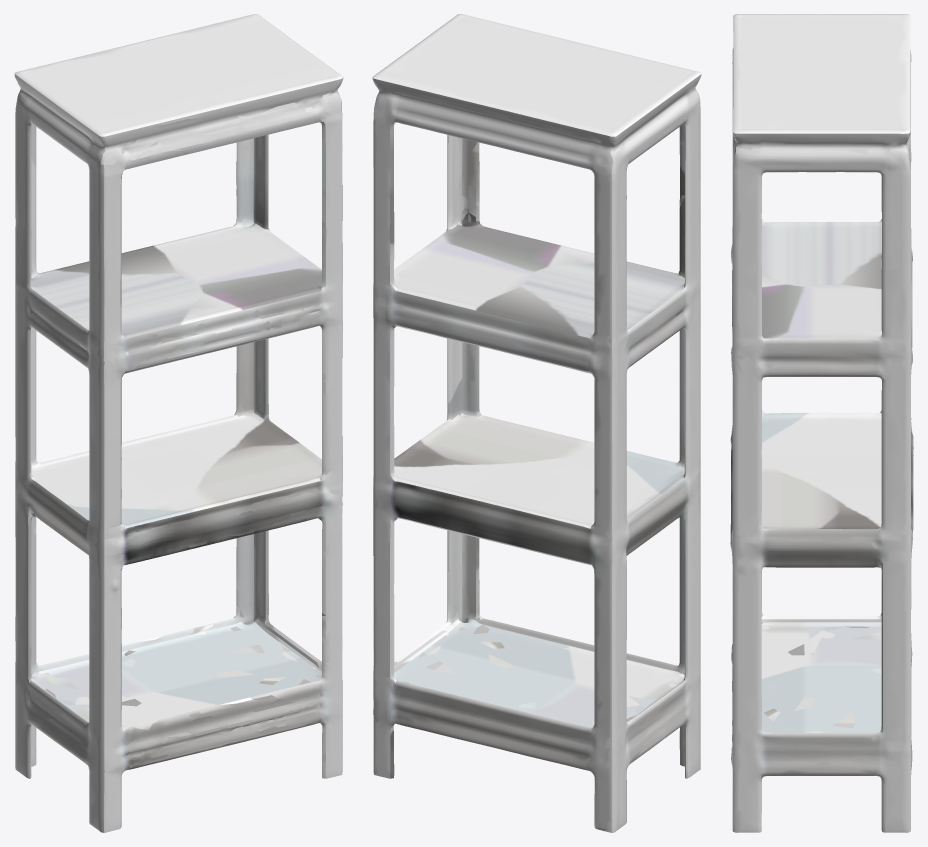
File: shelf__shelf#5.glb
3 renders of one model, left to right at view 1: azimuth 30°, elevation 25°; view 2: azimuth 150°, elevation 25°; view 3: azimuth 270°, elevation 25°, orthographic.
Visible parts, largest first — view 1: tmp958q4fsw.ply; view 2: tmp958q4fsw.ply; view 3: tmp958q4fsw.ply.
Boxes of the visible parts, left/top/right/bottom form: tmp958q4fsw.ply: left=14, top=14, right=343, bottom=832; tmp958q4fsw.ply: left=372, top=14, right=701, bottom=832; tmp958q4fsw.ply: left=730, top=14, right=913, bottom=832.
Size of the model in its own units: 0.7273 by 1.99 by 0.4697.
1 material, 1 textured.
